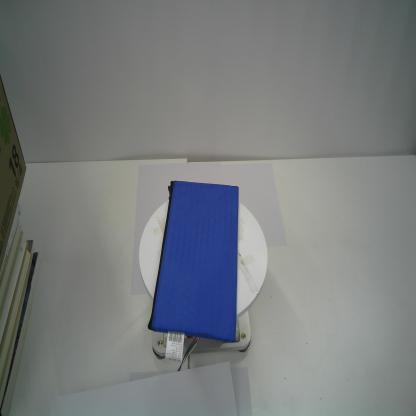Stationery: (147, 180, 239, 343)
